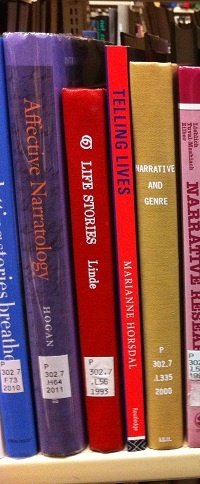call_number: (149, 344, 179, 401), (40, 355, 73, 400), (83, 356, 115, 397), (0, 360, 25, 392), (188, 350, 200, 381)
